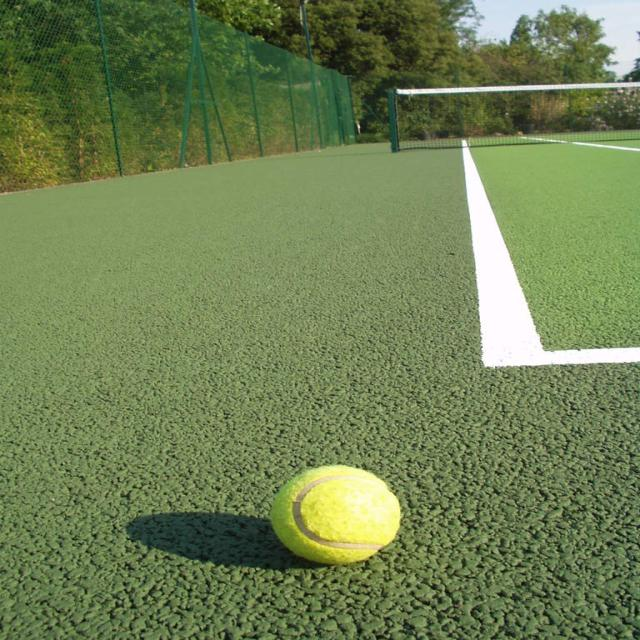Tennis ball: (271, 463, 400, 566)
